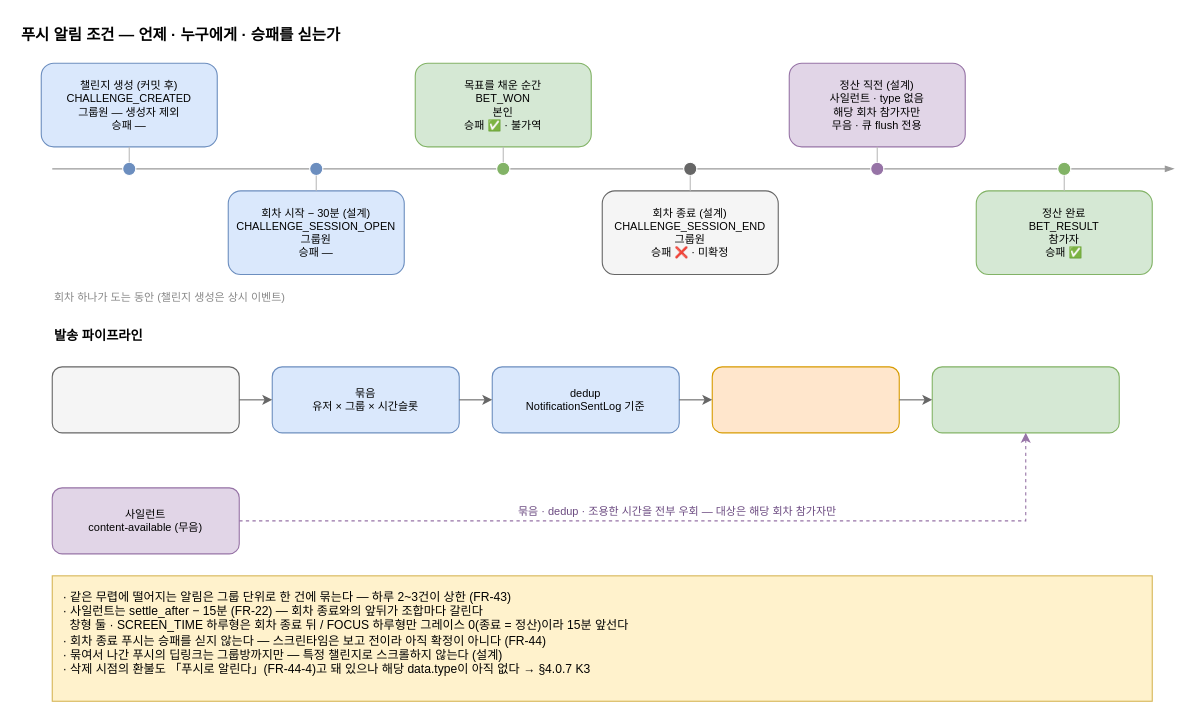
This 1202x721 diagram has some shape labels left out. Here are the shapes that lost their labels. From the top down, the centre of each, then its label:
(x=145, y=399): 감지기 4종 생성·회차개설·종료·정산
(x=805, y=399): 조용한 시간 필터 23–07시는 표시 푸시만 차단
(x=1025, y=399): 발송 (FCM) 실패하면 이력을 안 남긴다 → 다음 틱이 다시 집는다
